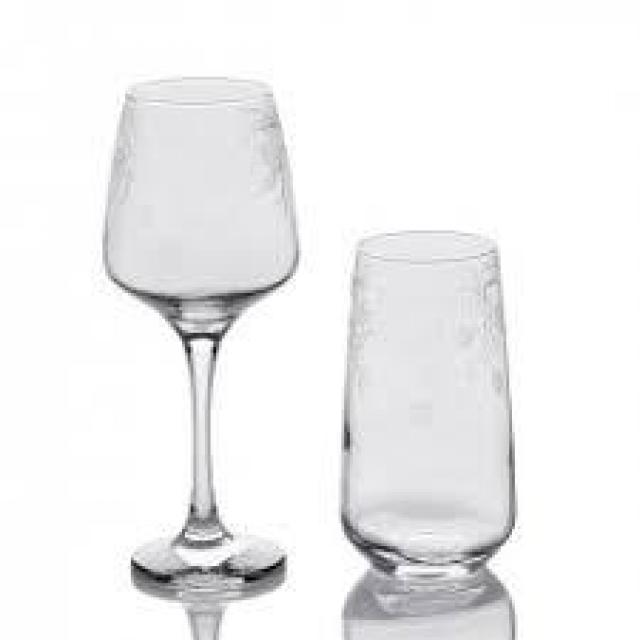non-organic waste: (101, 75, 300, 596), (340, 229, 519, 576)
